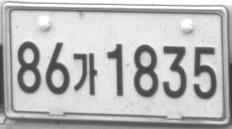1: (104, 43, 130, 96)
3: (162, 45, 187, 99)
5: (192, 46, 217, 100)
6: (44, 42, 69, 95)
8: (133, 43, 159, 98), (16, 40, 42, 94)
가: (72, 52, 98, 96)
